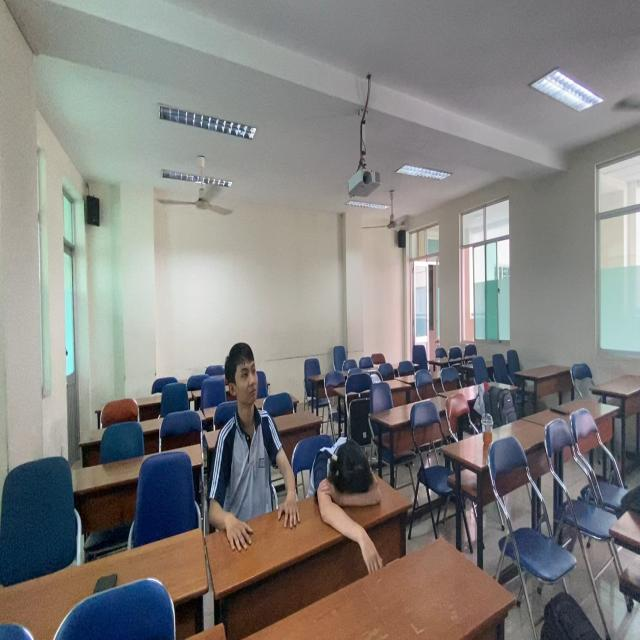sleep: (309, 431, 389, 536)
